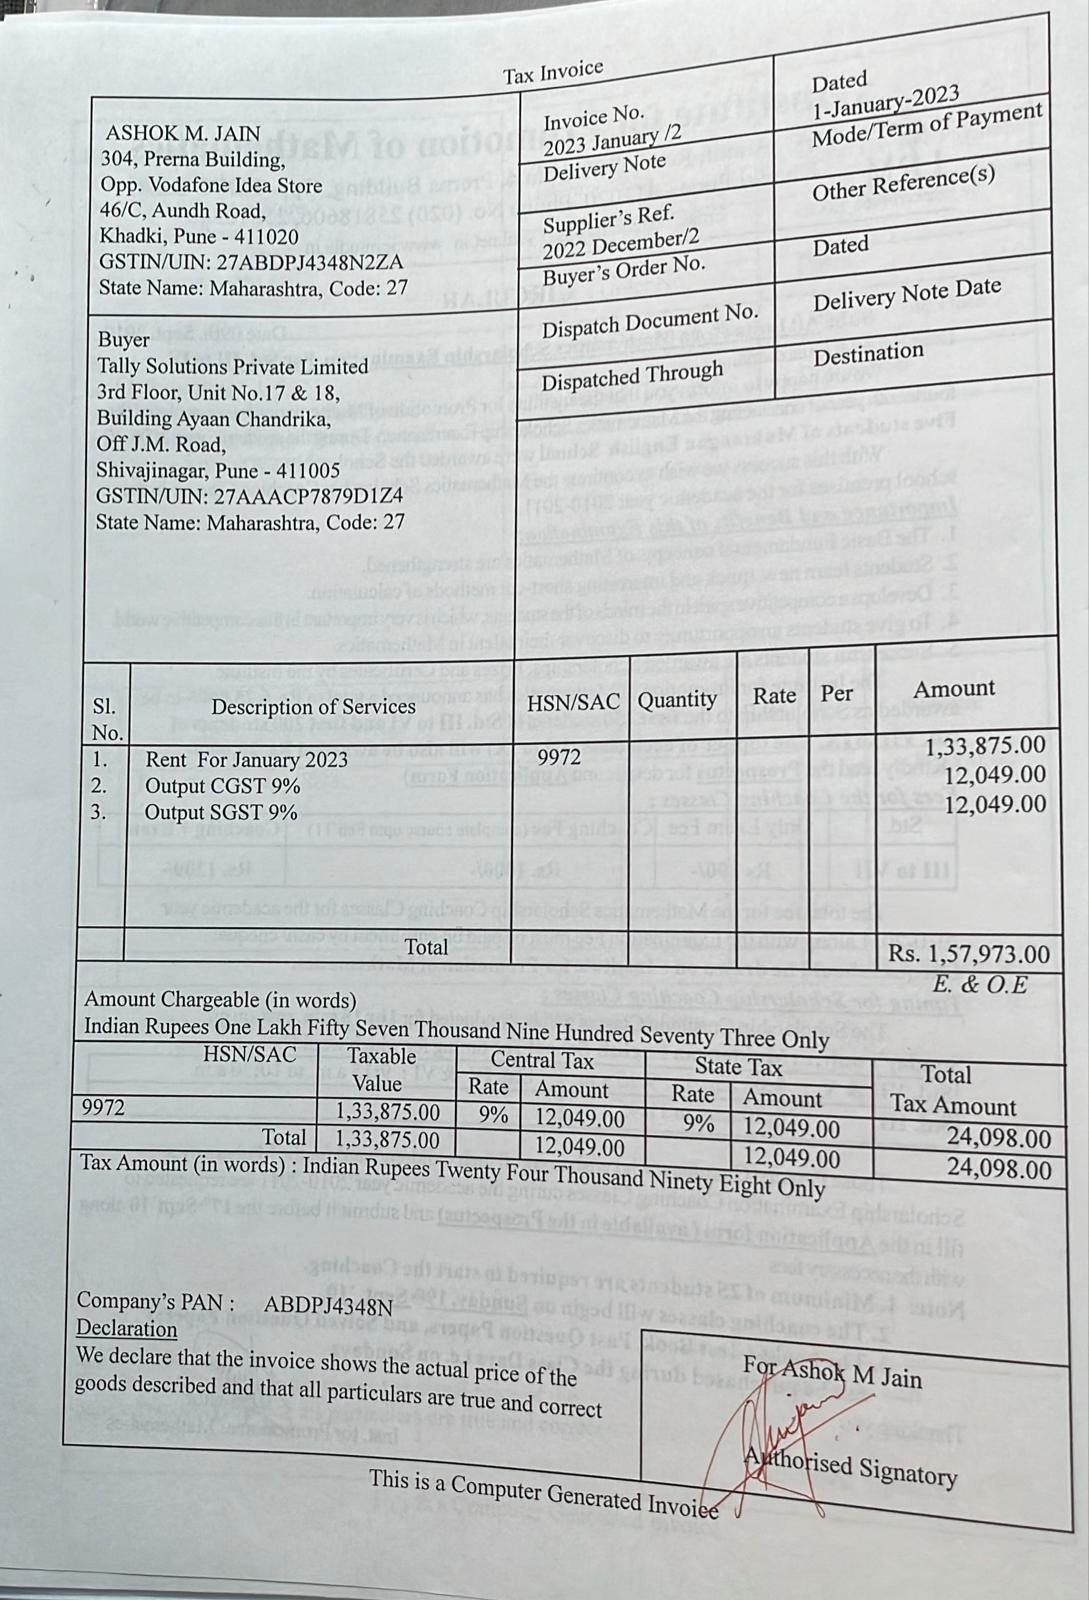InvoiceDate: (799, 92, 959, 120)
InvoiceNumber: (538, 132, 689, 156)
TotalAmount: (884, 932, 1056, 969)
